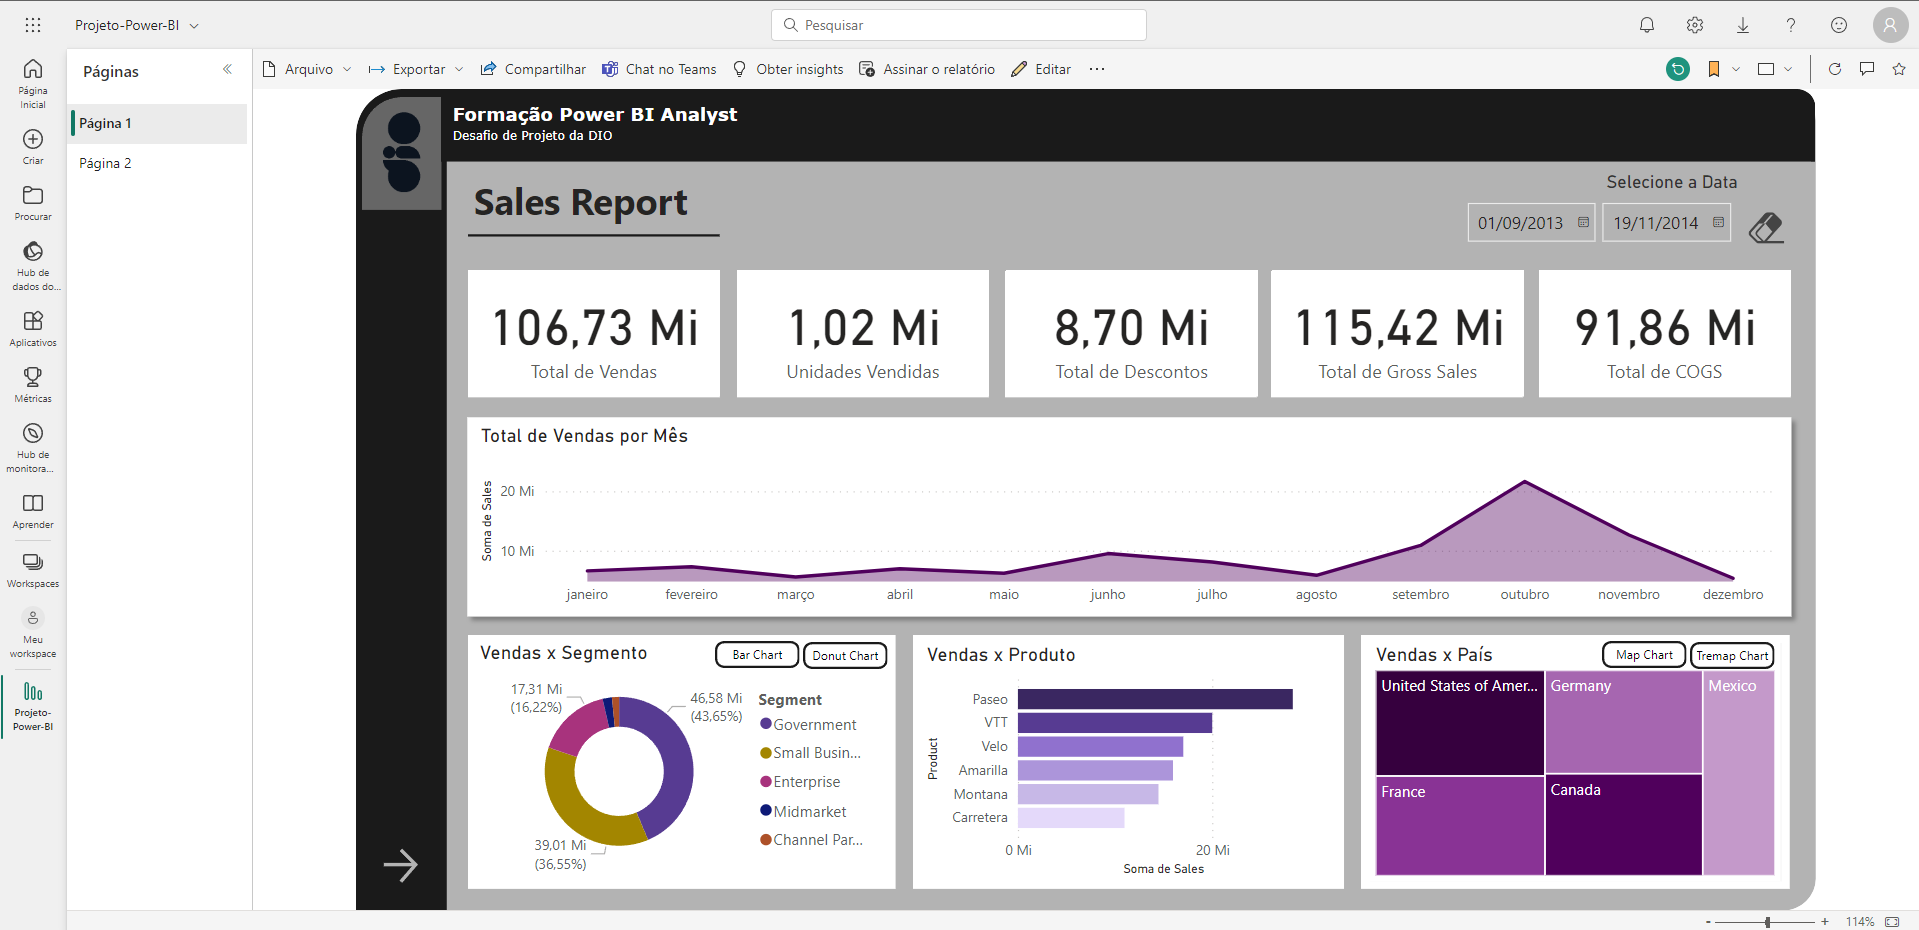

What the dashboard file says about the page in this screenshot:
{"tool":"powerbi","page":{"name":"Página 1","canvas":[1280,720],"ordinal":0},"visuals":[{"type":"group","id":"g1","title":"Background","box":[0,0,1280,720.5],"z":0},{"type":"shape","box":[12.8,0,1267.2,720.5],"z":0,"group":"g1"},{"type":"image","box":[1216.8,97.2,40.8,47.6],"z":0,"group":"g3"},{"type":"shape","box":[98,158.9,220.6,110.8],"z":0,"group":"g2"},{"type":"map","title":"Vendas x País","fields":{"Category":["financials.Country"],"Size":["Sum(financials. Sales)"]},"box":[889.3,485.9,360.6,209],"z":0,"group":"g4"},{"type":"clusteredBarChart","title":"Vendas x Segmento","fields":{"Category":["financials.Segment"],"Y":["Sum(financials. Sales)"]},"box":[105,486,360.6,209],"z":0,"group":"g5"},{"type":"shape","box":[0,0,79.7,720.2],"z":1000,"group":"g1"},{"type":"slicer","title":"   Selecione a Data","fields":{"Values":["financials.Date"]},"box":[962.2,71.9,254.6,68],"z":1000,"group":"g3"},{"type":"group","id":"g2","title":"Cartões","box":[98,158.4,1159.6,111.2],"z":1000},{"type":"shape","box":[1036.9,158.9,220.6,110.8],"z":1000,"group":"g2"},{"type":"donutChart","title":"Vendas x Segmento","fields":{"Category":["financials.Segment"],"Y":["Sum(financials. Sales)"]},"box":[103.7,484.5,360.6,209.6],"z":1000,"group":"g5"},{"type":"treemap","title":"Vendas x País","fields":{"Group":["financials.Country"],"Values":["Sum(financials. Sales)"]},"box":[889.3,485.9,360.2,209.1],"z":1000,"group":"g4"},{"type":"actionButton","title":"Donut Chart","box":[392.3,484.9,74.4,23.7],"z":1250,"group":"g5"},{"type":"actionButton","title":"Tremap Chart","box":[1169.9,485,74.4,23.7],"z":1250,"group":"g4"},{"type":"actionButton","title":"Bar Chart","box":[315.4,484.4,74.4,23.7],"z":1500,"group":"g5"},{"type":"actionButton","title":"Map Chart","box":[1093,484.5,74.4,23.7],"z":1500,"group":"g4"},{"type":"shape","box":[4.9,6.8,70,99.1],"z":2000,"group":"g1"},{"type":"actionButton","box":[1215.9,102,40.8,38.9],"z":2000,"group":"g3"},{"type":"shape","box":[802.6,158.9,220.6,110.8],"z":2000,"group":"g2"},{"type":"areaChart","title":"Total de Vendas por Mês","fields":{"Category":["financials.Date.Variation.Hierarquia de datas.Mês"],"Y":["Sum(financials. Sales)"]},"box":[104,293.5,1144.9,167.2],"z":2000},{"type":"image","box":[0,11.7,79.7,88.4],"z":3000,"group":"g1"},{"type":"shape","box":[569.4,158.9,220.6,110.8],"z":3000,"group":"g2"},{"type":"clusteredBarChart","title":"Vendas x Produto","fields":{"Category":["financials.Product"],"Y":["Sum(financials. Sales)"]},"box":[495.7,486,360.6,209],"z":3000},{"type":"shape","box":[74.6,0,1205.4,63.8],"z":4000,"group":"g1"},{"type":"group","id":"g3","title":"Filtro por Data","box":[962.2,71.9,295.5,72.9],"z":4000},{"type":"shape","box":[334.2,158.9,220.6,110.8],"z":4000,"group":"g2"},{"type":"textbox","box":[79.7,6.8,300.3,50.5],"z":5000,"group":"g1"},{"type":"card","fields":{"Values":["Sum(financials. Sales)"]},"box":[98.1,158.4,220.6,110.8],"z":5000,"group":"g2"},{"type":"group","id":"g4","title":"Vendas x Pais","box":[889.3,484.5,360.6,210.5],"z":5000},{"type":"textbox","box":[98.2,70,207,59.3],"z":6000,"group":"g1"},{"type":"card","fields":{"Values":["Sum(financials.Units Sold)"]},"box":[334.3,158.4,220.6,110.8],"z":6000,"group":"g2"},{"type":"group","id":"g5","title":"Vendas x Segmento","box":[103.7,484.4,363,210.5],"z":6000},{"type":"shape","box":[97.8,121.8,220.7,13],"z":7000,"group":"g1"},{"type":"card","fields":{"Values":["Sum(financials.Gross Sales)"]},"box":[802.8,158.4,220.6,110.8],"z":7000,"group":"g2"},{"type":"actionButton","box":[18.2,661.1,43.3,39.9],"z":7000},{"type":"card","fields":{"Values":["Sum(financials.Discounts)"]},"box":[569.5,158.4,220.6,110.8],"z":8000,"group":"g2"},{"type":"shape","box":[88.9,278.6,1179.2,192.7],"z":8000,"group":"g1"},{"type":"card","fields":{"Values":["Sum(financials.COGS)"]},"box":[1037,158.4,220.6,110.8],"z":9000,"group":"g2"},{"type":"shape","box":[881.6,479.3,376.4,222.7],"z":9000,"group":"g1"},{"type":"shape","box":[97.8,479.3,375.4,222.7],"z":10000,"group":"g1"},{"type":"shape","box":[488.2,479.3,378.4,222.7],"z":11000,"group":"g1"}]}

Visuals, with their boxes on the page's 1280x720 design canvas (x1, y1, x2, y2). These are canvas units, not pixel positions in the 1919x930 screenshot, which may show the page scaled, cropped or inside an application window:
"Background" group: {"left": 0, "top": 0, "right": 1280, "bottom": 720}
shape: {"left": 13, "top": 0, "right": 1280, "bottom": 720}
image: {"left": 1217, "top": 97, "right": 1258, "bottom": 145}
shape: {"left": 98, "top": 159, "right": 319, "bottom": 270}
"Vendas x País" map: {"left": 889, "top": 486, "right": 1250, "bottom": 695}
"Vendas x Segmento" clusteredBarChart: {"left": 105, "top": 486, "right": 466, "bottom": 695}
shape: {"left": 0, "top": 0, "right": 80, "bottom": 720}
"   Selecione a Data" slicer: {"left": 962, "top": 72, "right": 1217, "bottom": 140}
"Cartões" group: {"left": 98, "top": 158, "right": 1258, "bottom": 270}
shape: {"left": 1037, "top": 159, "right": 1258, "bottom": 270}
"Vendas x Segmento" donutChart: {"left": 104, "top": 484, "right": 464, "bottom": 694}
"Vendas x País" treemap: {"left": 889, "top": 486, "right": 1250, "bottom": 695}
"Donut Chart" actionButton: {"left": 392, "top": 485, "right": 467, "bottom": 509}
"Tremap Chart" actionButton: {"left": 1170, "top": 485, "right": 1244, "bottom": 509}
"Bar Chart" actionButton: {"left": 315, "top": 484, "right": 390, "bottom": 508}
"Map Chart" actionButton: {"left": 1093, "top": 484, "right": 1167, "bottom": 508}
shape: {"left": 5, "top": 7, "right": 75, "bottom": 106}
actionButton: {"left": 1216, "top": 102, "right": 1257, "bottom": 141}
shape: {"left": 803, "top": 159, "right": 1023, "bottom": 270}
"Total de Vendas por Mês" areaChart: {"left": 104, "top": 294, "right": 1249, "bottom": 461}
image: {"left": 0, "top": 12, "right": 80, "bottom": 100}
shape: {"left": 569, "top": 159, "right": 790, "bottom": 270}
"Vendas x Produto" clusteredBarChart: {"left": 496, "top": 486, "right": 856, "bottom": 695}
shape: {"left": 75, "top": 0, "right": 1280, "bottom": 64}
"Filtro por Data" group: {"left": 962, "top": 72, "right": 1258, "bottom": 145}
shape: {"left": 334, "top": 159, "right": 555, "bottom": 270}
textbox: {"left": 80, "top": 7, "right": 380, "bottom": 57}
card - Sum(financials. Sales): {"left": 98, "top": 158, "right": 319, "bottom": 269}
"Vendas x Pais" group: {"left": 889, "top": 484, "right": 1250, "bottom": 695}
textbox: {"left": 98, "top": 70, "right": 305, "bottom": 129}
card - Sum(financials.Units Sold): {"left": 334, "top": 158, "right": 555, "bottom": 269}
"Vendas x Segmento" group: {"left": 104, "top": 484, "right": 467, "bottom": 695}
shape: {"left": 98, "top": 122, "right": 318, "bottom": 135}
card - Sum(financials.Gross Sales): {"left": 803, "top": 158, "right": 1023, "bottom": 269}
actionButton: {"left": 18, "top": 661, "right": 62, "bottom": 701}
card - Sum(financials.Discounts): {"left": 570, "top": 158, "right": 790, "bottom": 269}
shape: {"left": 89, "top": 279, "right": 1268, "bottom": 471}
card - Sum(financials.COGS): {"left": 1037, "top": 158, "right": 1258, "bottom": 269}
shape: {"left": 882, "top": 479, "right": 1258, "bottom": 702}
shape: {"left": 98, "top": 479, "right": 473, "bottom": 702}
shape: {"left": 488, "top": 479, "right": 867, "bottom": 702}
